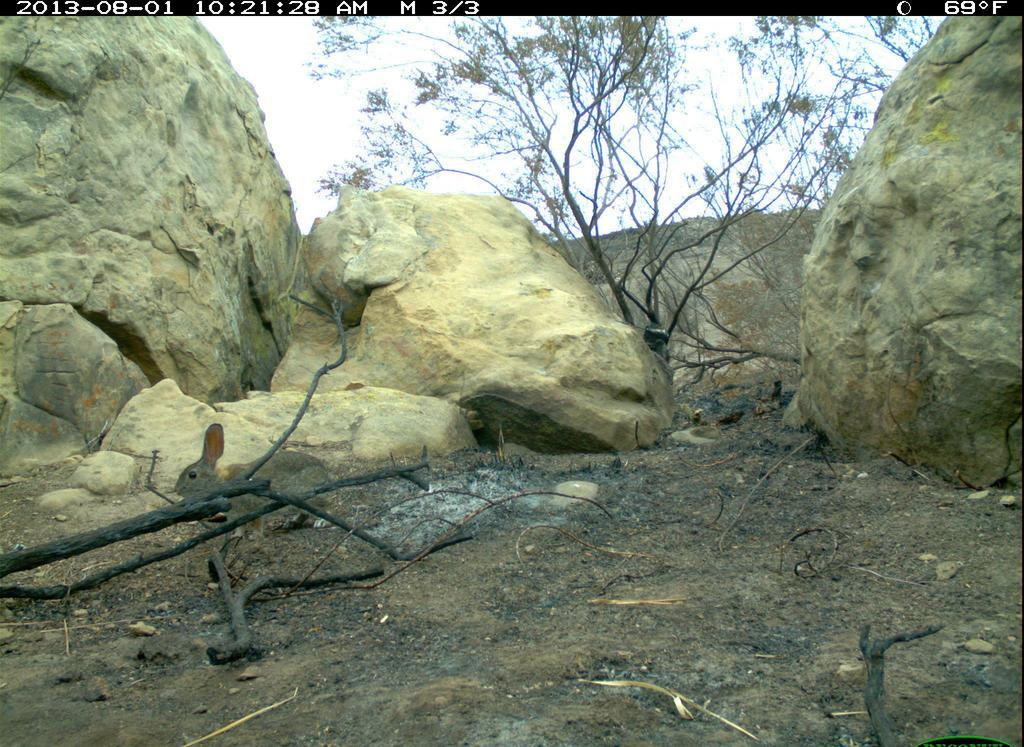rabbit: (168, 421, 345, 540)
